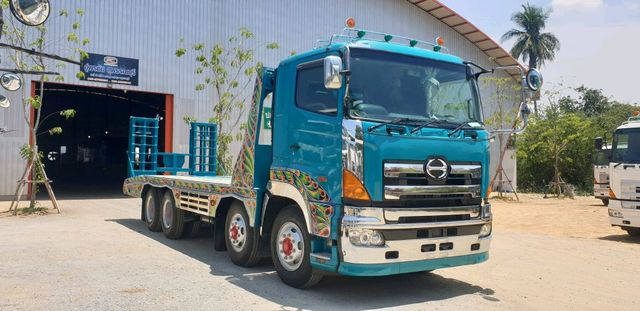truck: (262, 35, 496, 298)
